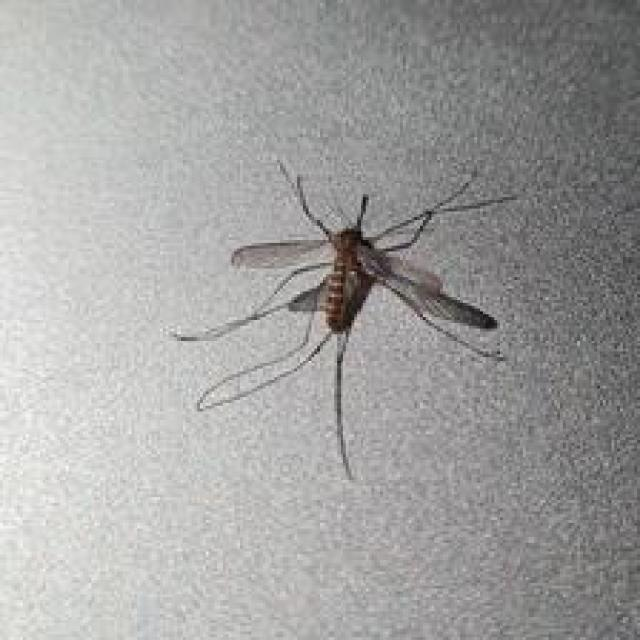Culex: (170, 157, 519, 480)
